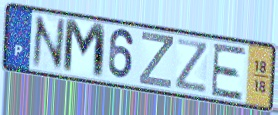6: (107, 27, 135, 83)
E: (209, 42, 248, 102)
M: (61, 16, 108, 82)
N: (31, 13, 66, 71)
Z: (137, 30, 175, 91), (173, 36, 210, 95)
